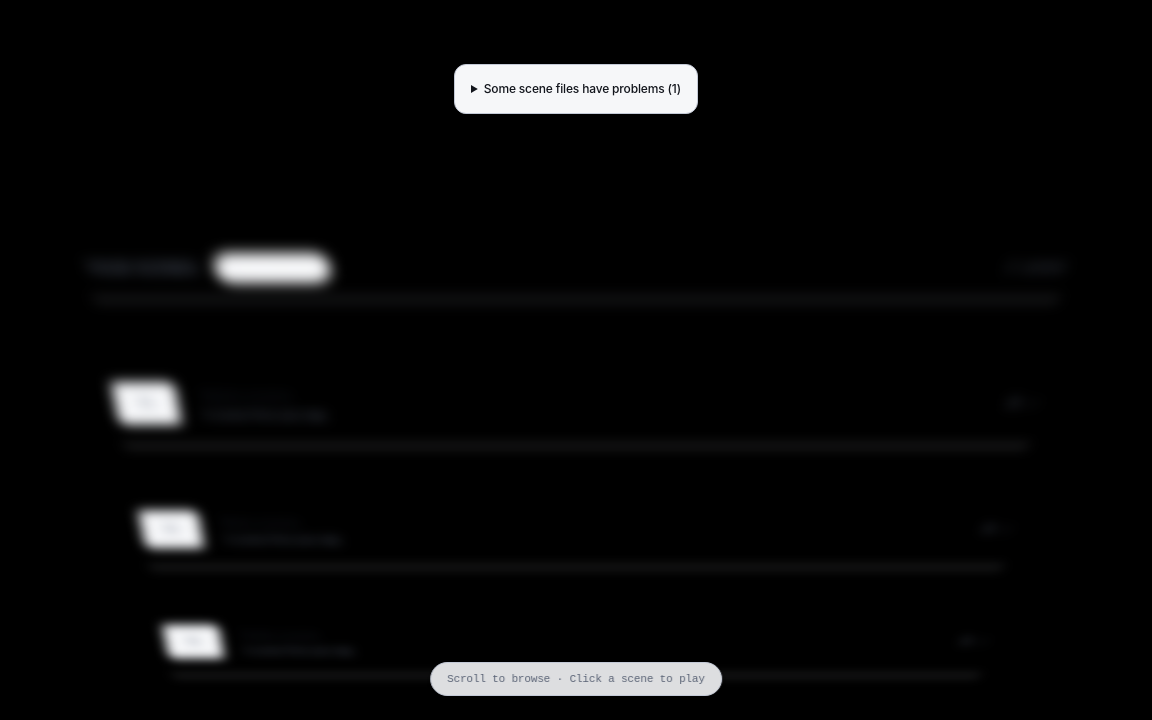
Test: keeps three valid scenes available while reporting the path of one broken component module
Expected: the link "01 Alpha scene A scene from your app 0s ↗" is shown, [106, 360, 1046, 446]
Expected: the link "02 Beta scene A scene from your app 0s ↗" is shown, [134, 491, 1018, 568]
Click the heading "Some scene files have problems (1)": [576, 89] box [471, 81, 681, 97]
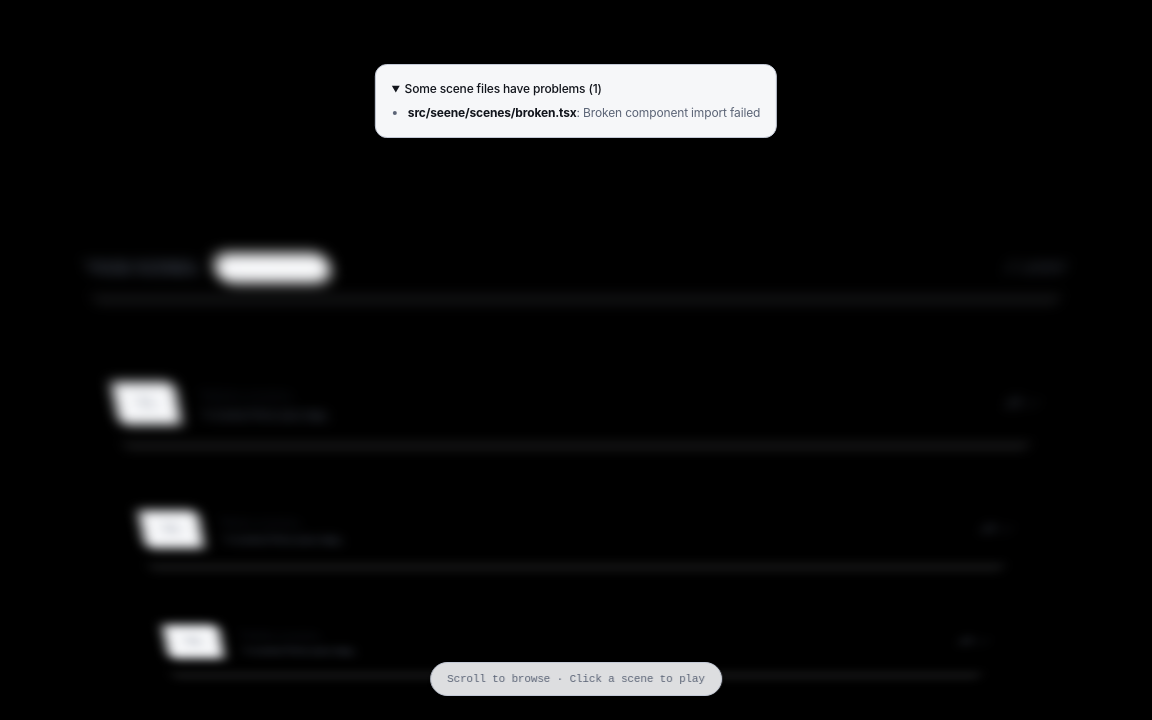
Expected: the text "src/seene/scenes/broken.tsx" is shown, [408, 105, 577, 120]
Expected: the list item "src/seene/scenes/broken.tsx: Broken component import failed" is shown, [408, 105, 760, 121]
